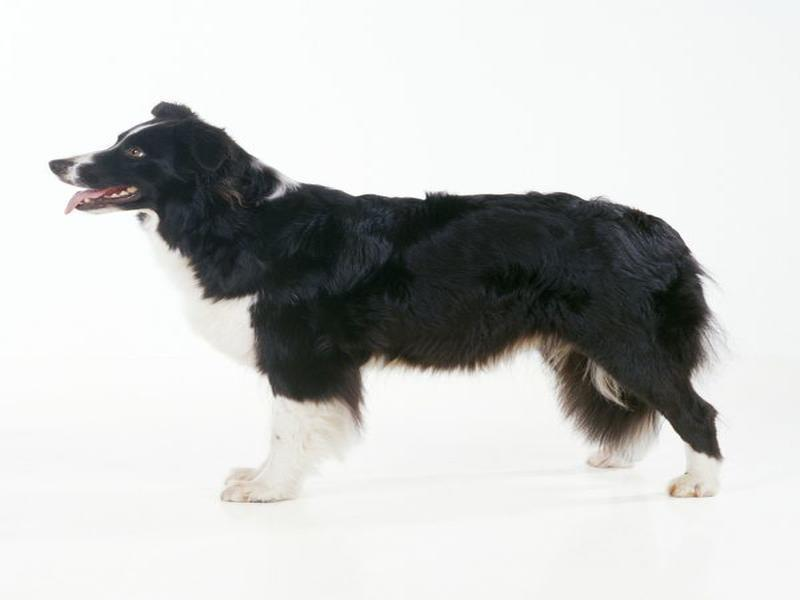dog_stand: (44, 93, 737, 511)
